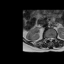CCS_normal: (49, 35, 51, 42)
LFS_normal: (53, 36, 55, 40)
LLS_normal: (51, 36, 53, 41)
RFS_normal: (46, 36, 47, 41)
RLS_normal: (47, 36, 49, 41)
